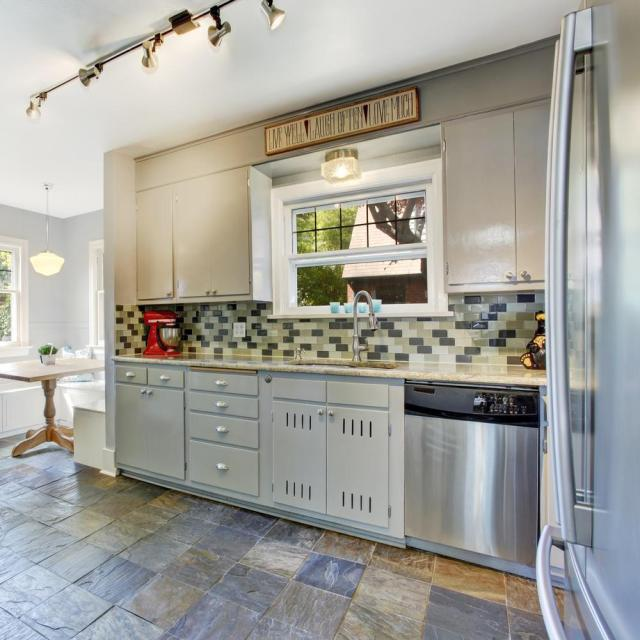dishwasher: (400, 375, 546, 579)
